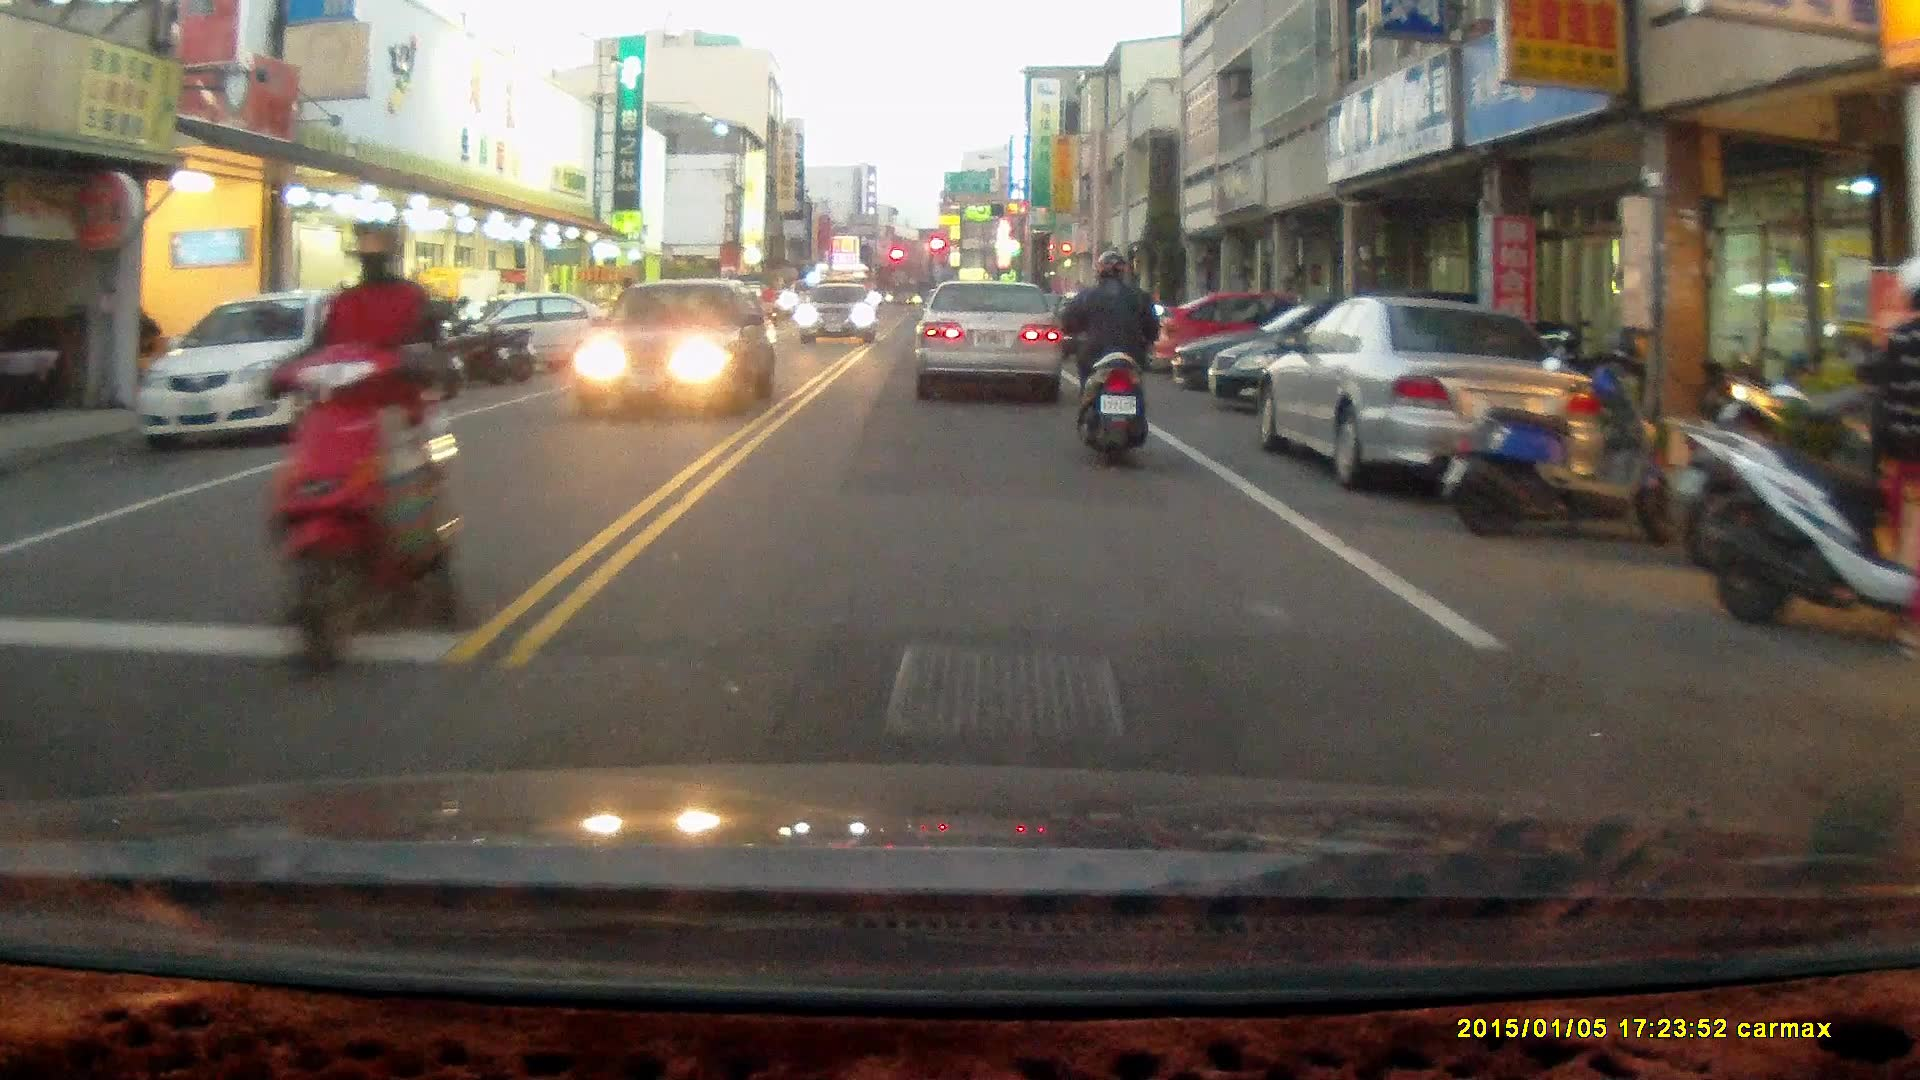pedestrian: (1865, 259, 1920, 661)
rider: (262, 204, 476, 677), (1053, 248, 1167, 469)
vehicle: (1248, 293, 1602, 491), (131, 288, 387, 451), (1208, 298, 1496, 412), (578, 276, 776, 418), (1172, 308, 1461, 400), (1153, 294, 1378, 382), (910, 281, 1066, 403), (448, 291, 606, 376), (799, 283, 879, 348)
